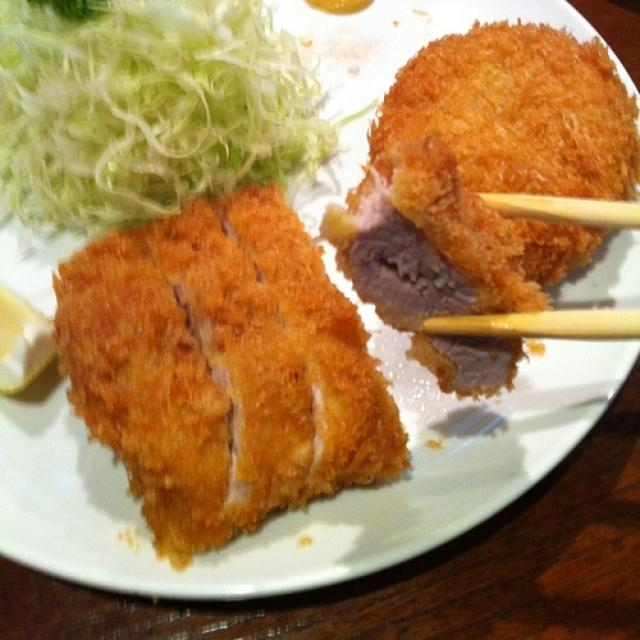牛肉菜式: (21, 8, 634, 570)
